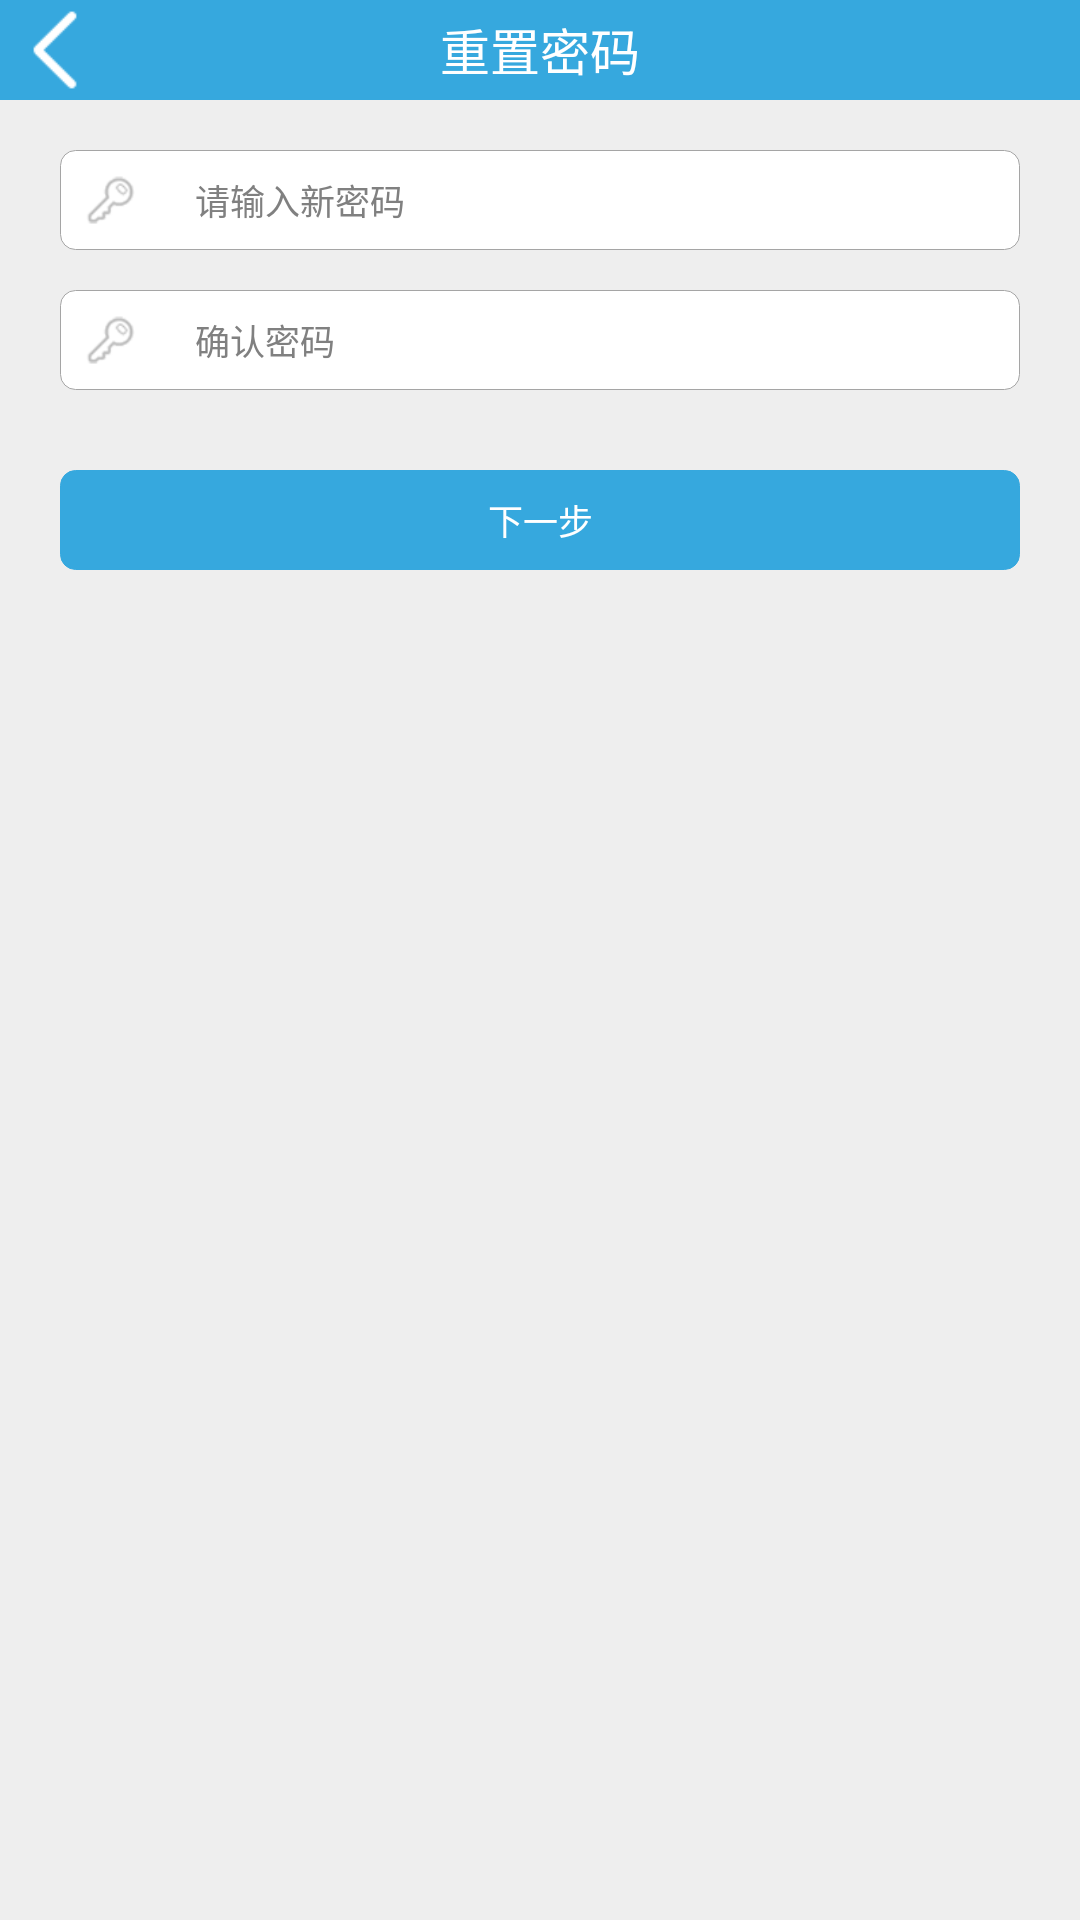

Icon bounding boxes for this 1080 x 1920 phone screenshot, format Rect(x1, y1, x2, y2):
keyicon: Rect(88, 177, 133, 223), Rect(88, 317, 133, 363)
leftarrowicon: Rect(33, 11, 77, 89)
